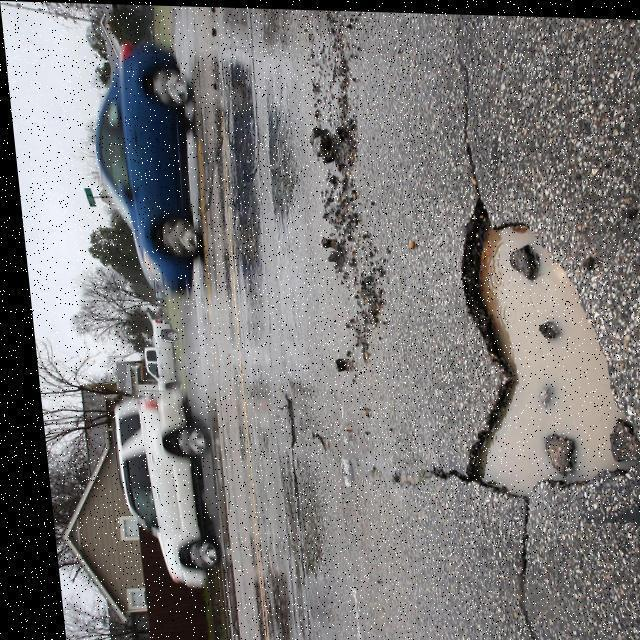Pothole: (452, 198, 640, 496)
